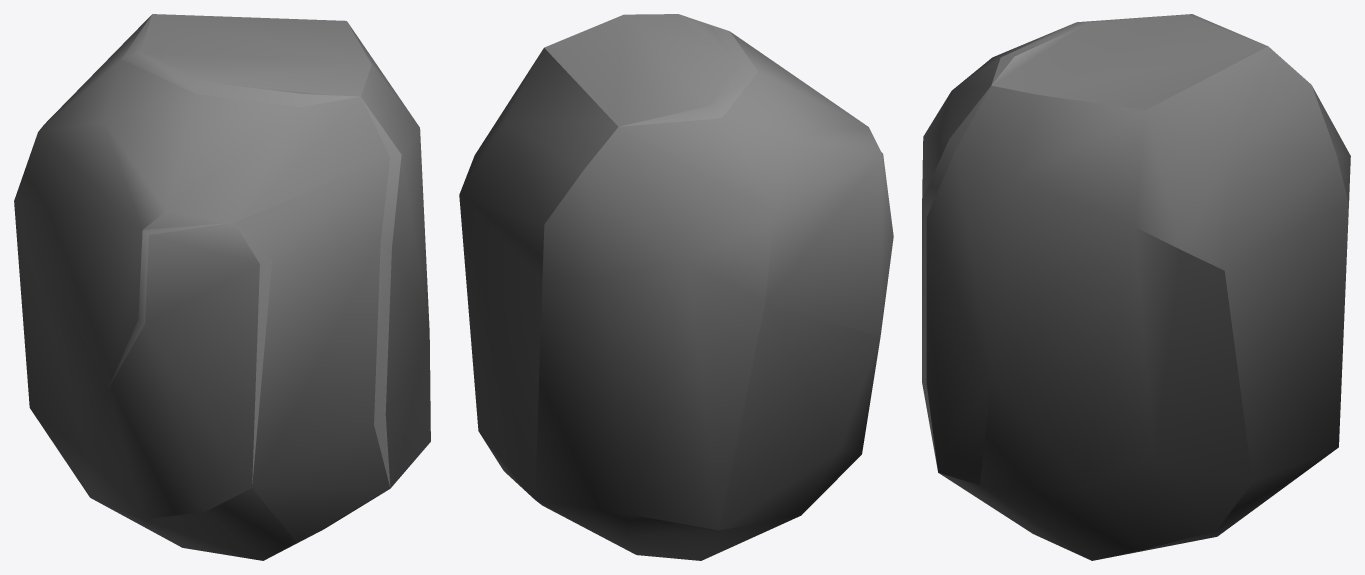
Rendered from rocks_007.glb.
3 views of the same model, side by side, from view 1: azimuth 30°, elevation 25°; view 2: azimuth 150°, elevation 25°; view 3: azimuth 270°, elevation 25° (orthographic). The views are drawn at different scales.
Parts seen in each view (by area): view 1: rocks.007; view 2: rocks.007; view 3: rocks.007.
Part boxes in pixels (box(x1,y1,x2,y2)): rocks.007: box(14, 14, 430, 560); rocks.007: box(459, 14, 893, 560); rocks.007: box(922, 14, 1350, 560).
Size of the model in its own units: 0.4352 by 0.5468 by 0.4577.
1 material, 1 textured.
